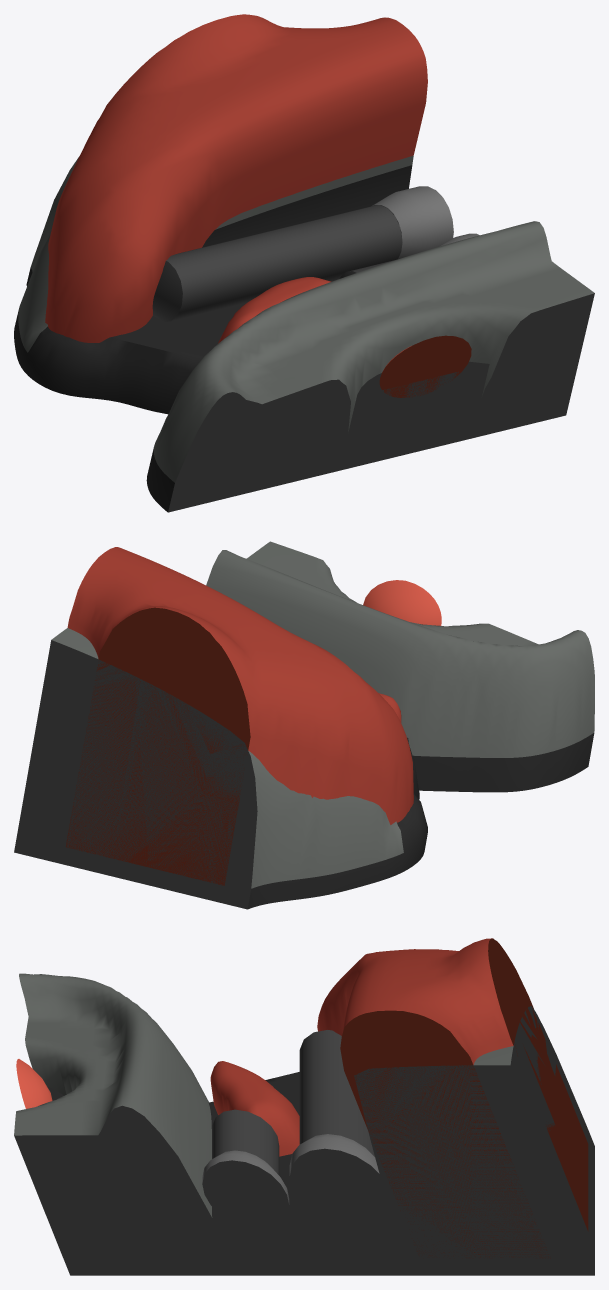
File: dome_head_47.glb
3 views of the same model, one above another, from view 1: azimuth 30°, elevation 25°; view 2: azimuth 150°, elevation 25°; view 3: azimuth 270°, elevation 25° (orthographic). The views are drawn at different scales.
Parts seen in each view (by area): view 1: dome_head_47; view 2: dome_head_47; view 3: dome_head_47.
Boxes of the visible parts, <box> form: dome_head_47: <box>14,14,594,512</box>; dome_head_47: <box>14,541,594,909</box>; dome_head_47: <box>14,938,594,1275</box>.
Bounding box in the file's own units: 23.96 × 15.67 × 31.
